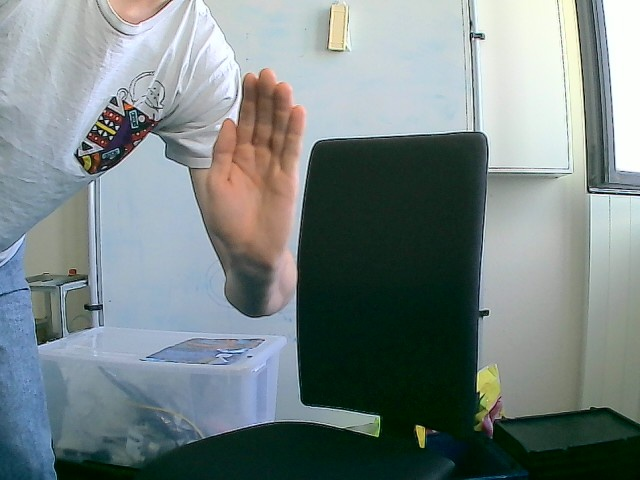stop: (199, 67, 307, 267)
